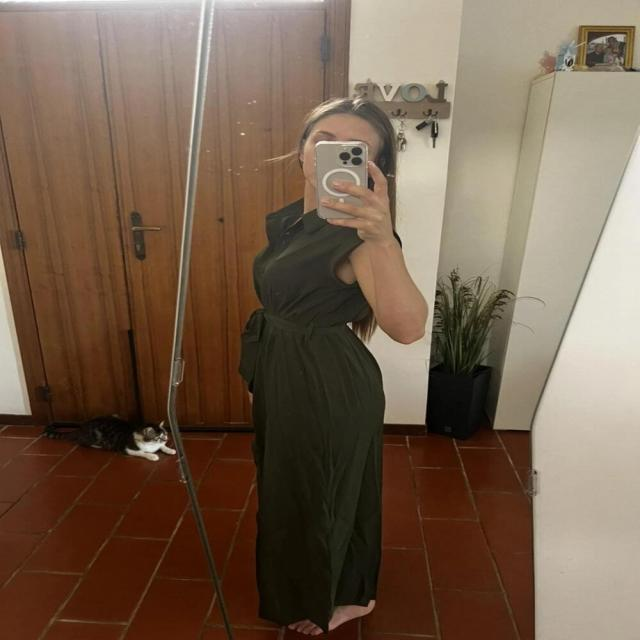clothes: (207, 190, 428, 639)
